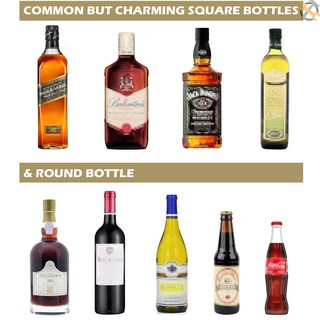glass_bottle: (102, 31, 150, 152), (180, 24, 225, 151), (33, 22, 74, 153), (28, 197, 72, 319), (91, 187, 129, 318), (154, 193, 191, 317), (208, 208, 249, 319), (258, 26, 291, 153), (261, 217, 292, 320)
